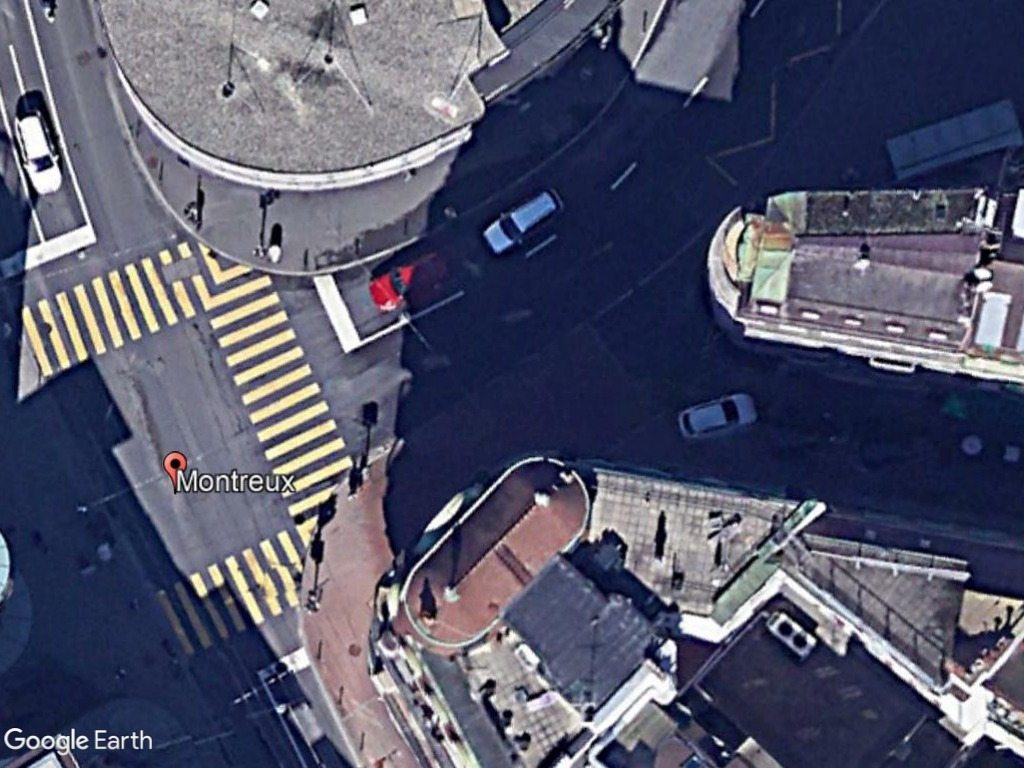car: (478, 181, 567, 262), (362, 244, 462, 315), (8, 105, 66, 199), (672, 389, 760, 447)
